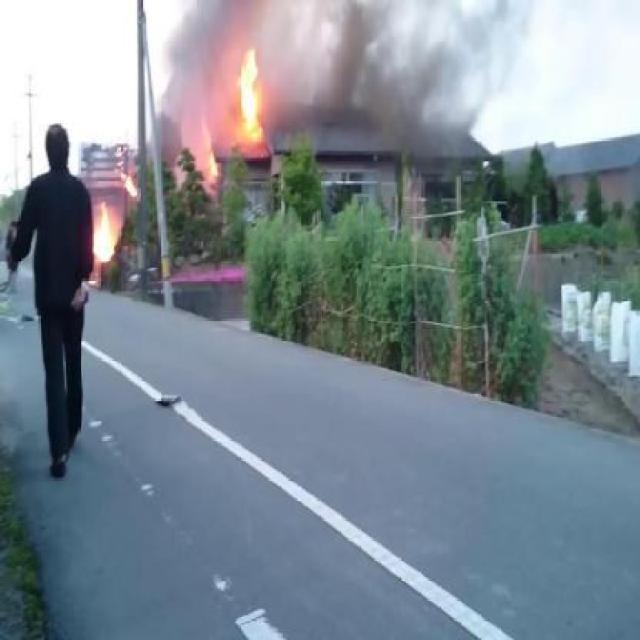Fire: (238, 44, 264, 142), (90, 200, 118, 262), (200, 128, 220, 176), (119, 170, 139, 198)
